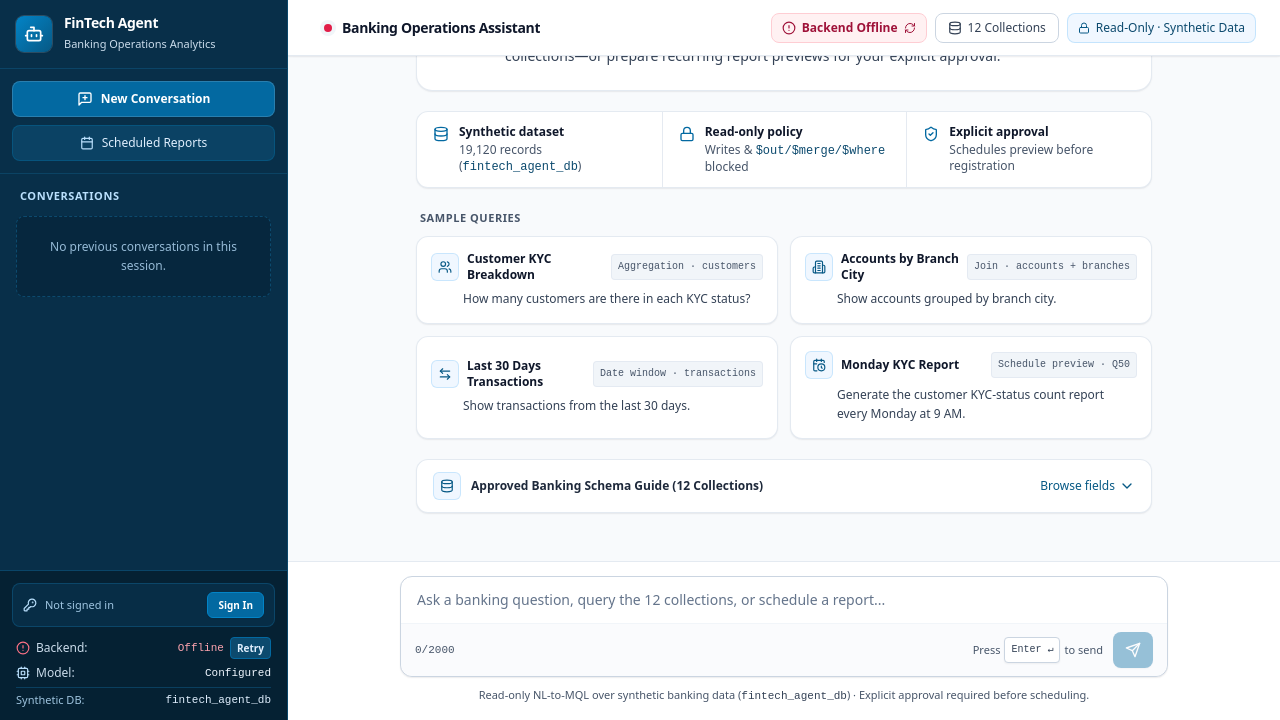
FinTech Agent Frontend Chat Tests › 13. Shows truthful offline backend status and supports manual health retry
(page scrolled)
Expected: the text "Offline" is shown, [178,640,224,656]
Expected: the button with aria-label "Backend offline, retry connection" is shown, [771,12,927,42]
What coordinates should you click on to do the following:
click the button with aria-label "Retry backend connection"
I would click on:
 (250, 648)
Its box is [230,637,271,659].
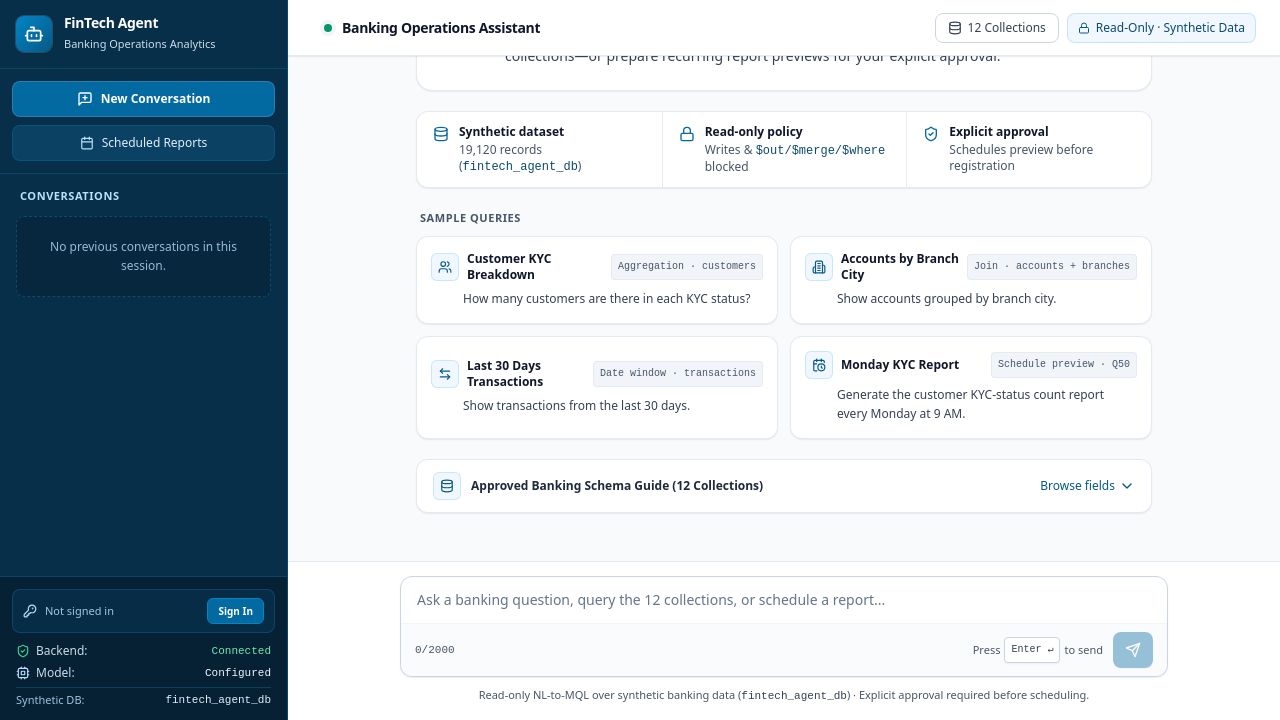
Expected: the text "Connected" is shown, [212,643,271,659]
